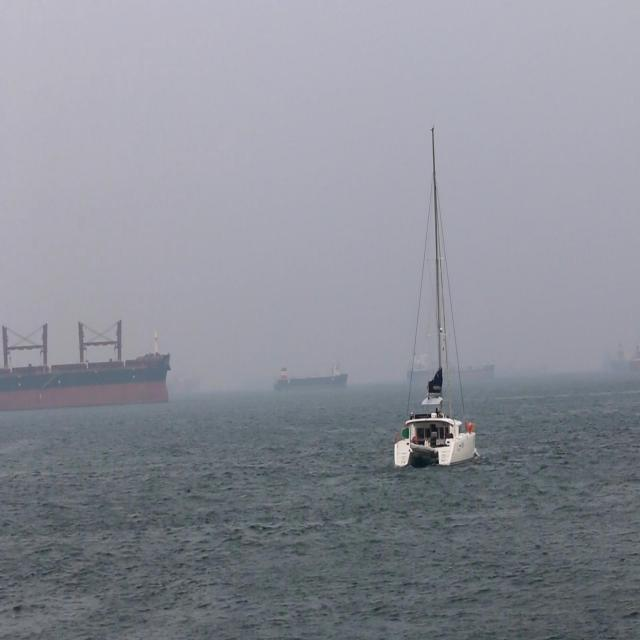CIV_Ship: (392, 122, 478, 469)
